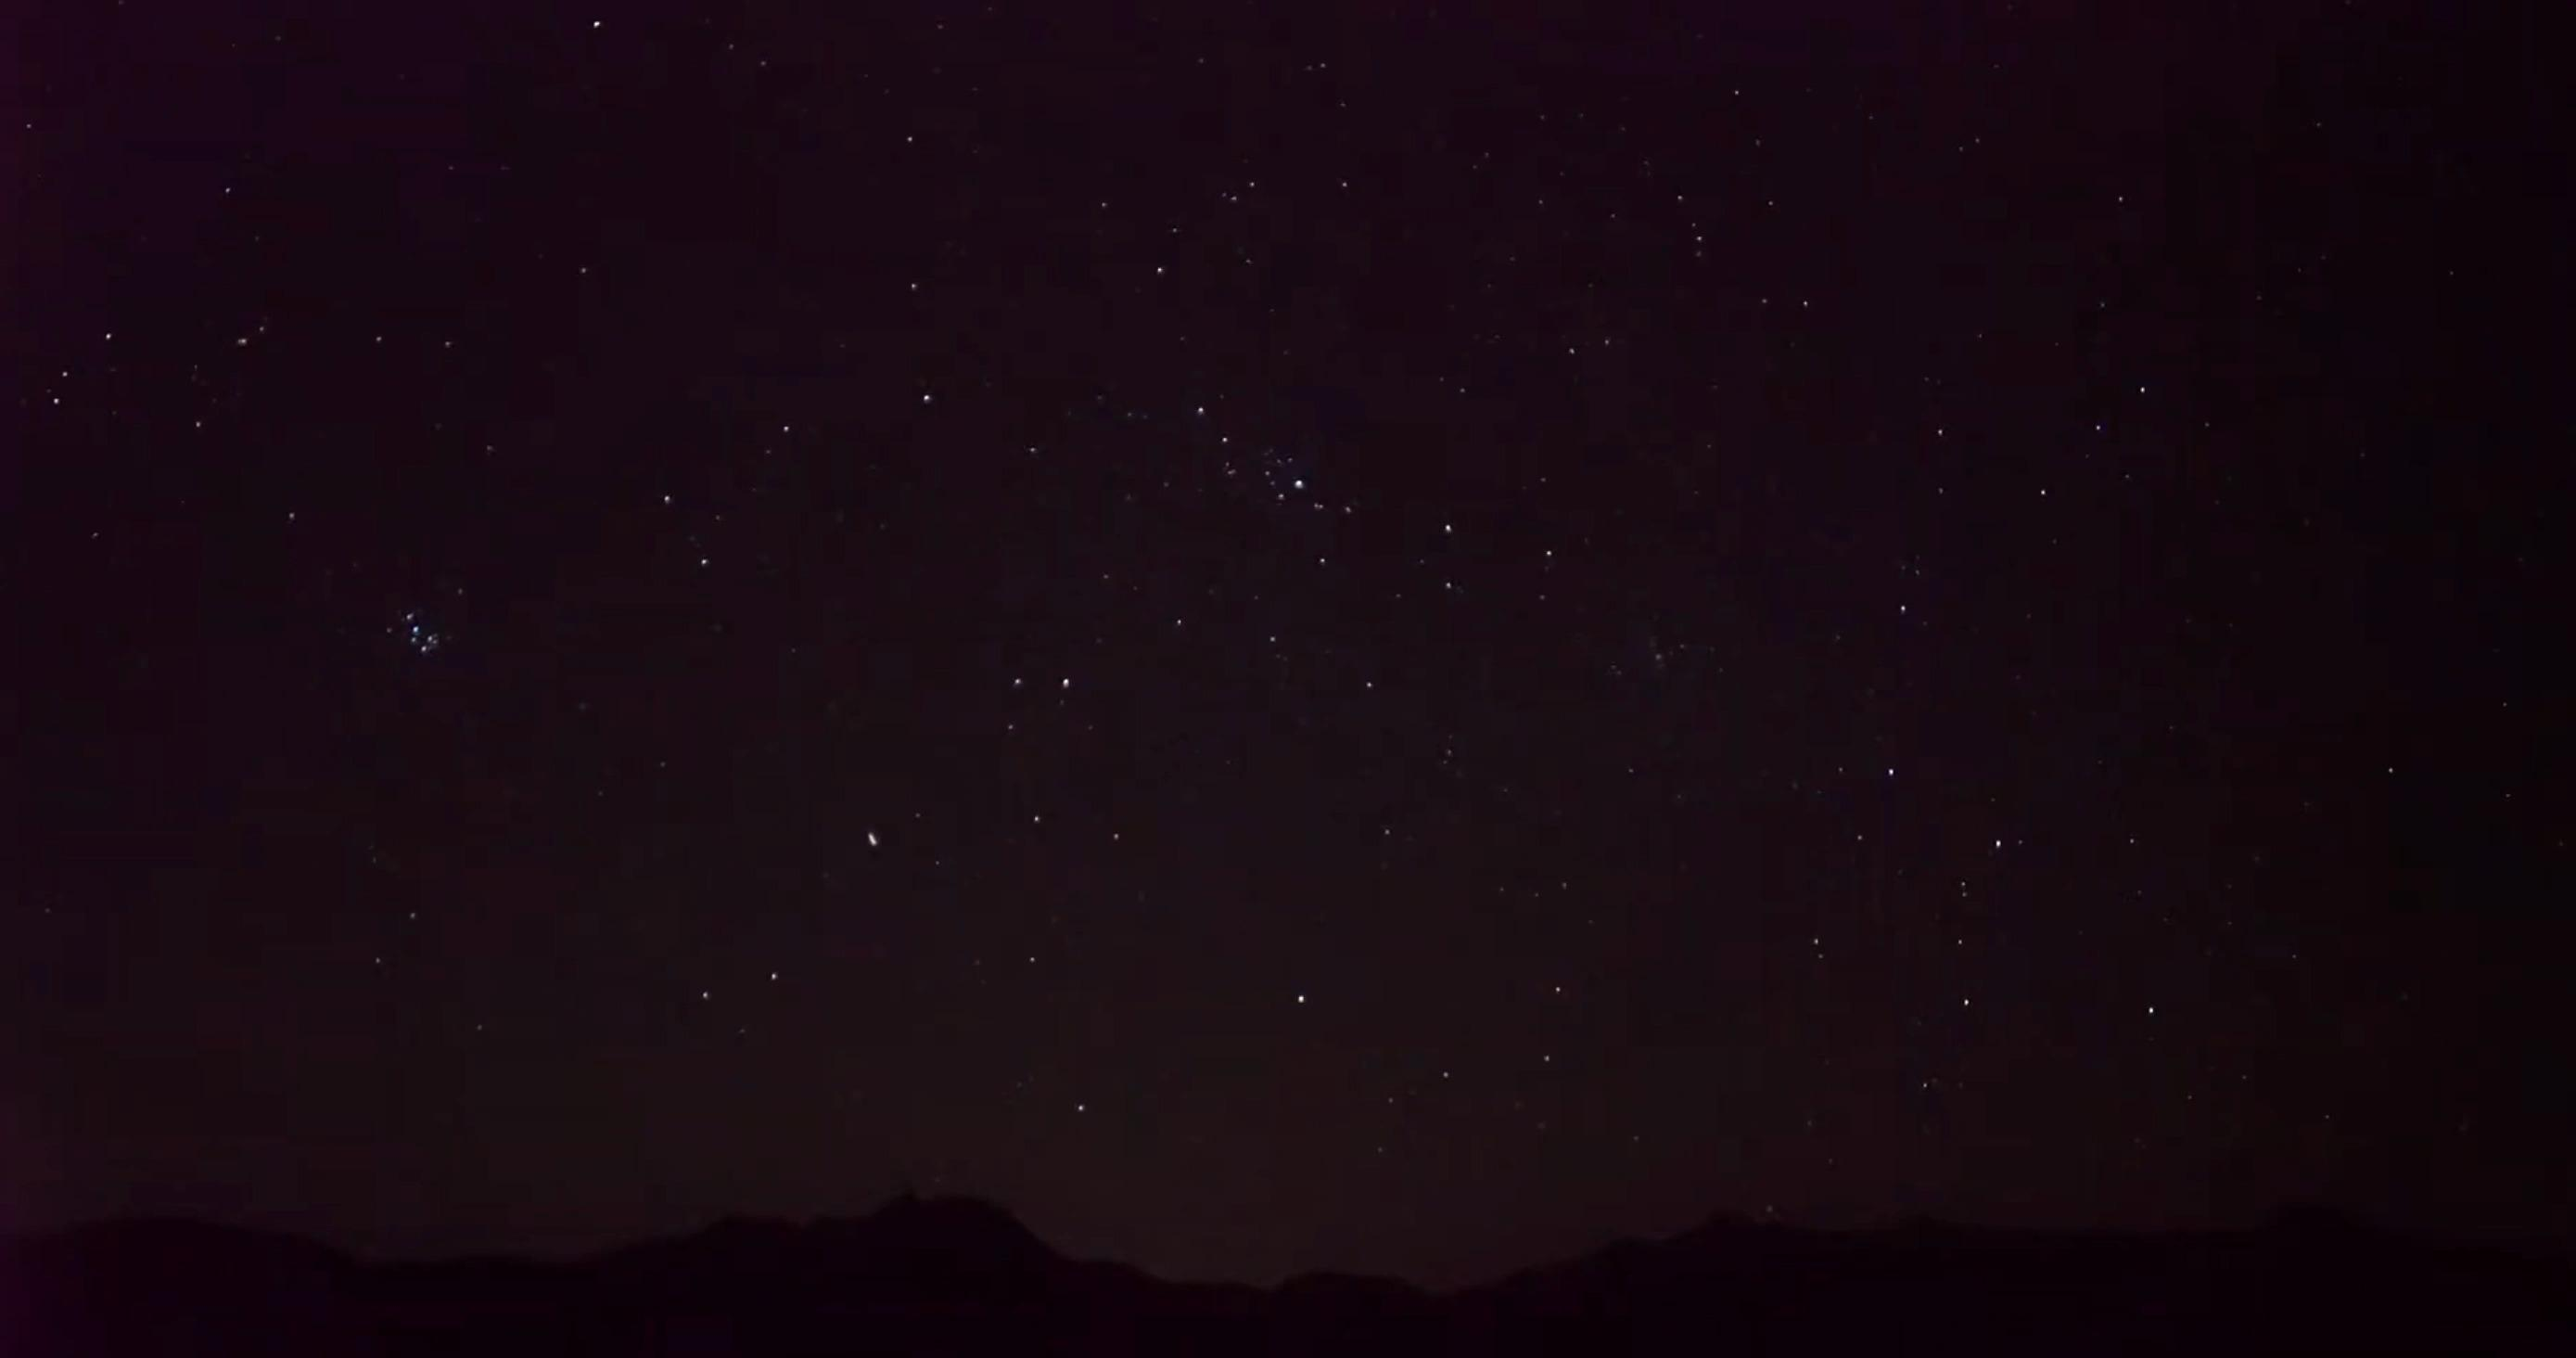meteorite: (835, 813, 915, 864)
